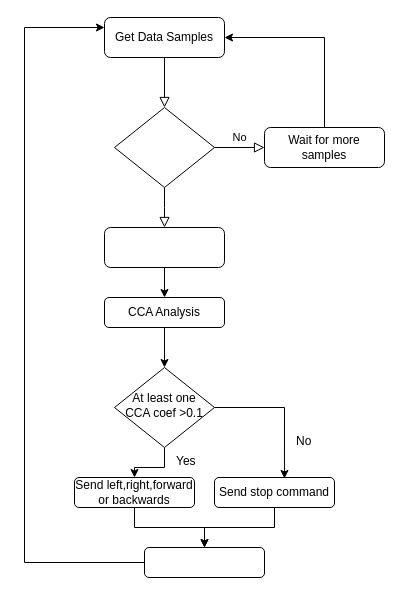
The diagram is 402 pixels wide and 595 high, and some of its shapes have lost their labels. The shapes that lost their labels are listed below. From the top down, each one's centre as x and y in pixels, then its label:
point (164, 147): At least 500 Samples
point (164, 247): Filters Data
point (204, 562): Repeat Process
